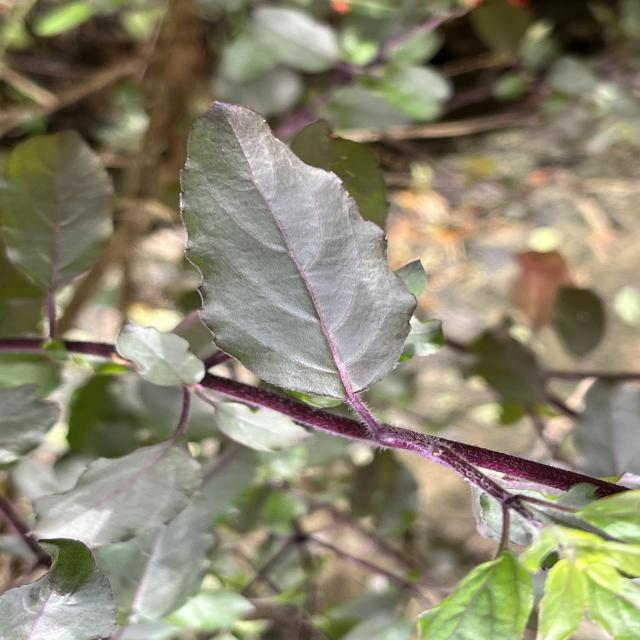Ocimum tenuiflorum: (175, 98, 422, 402)
